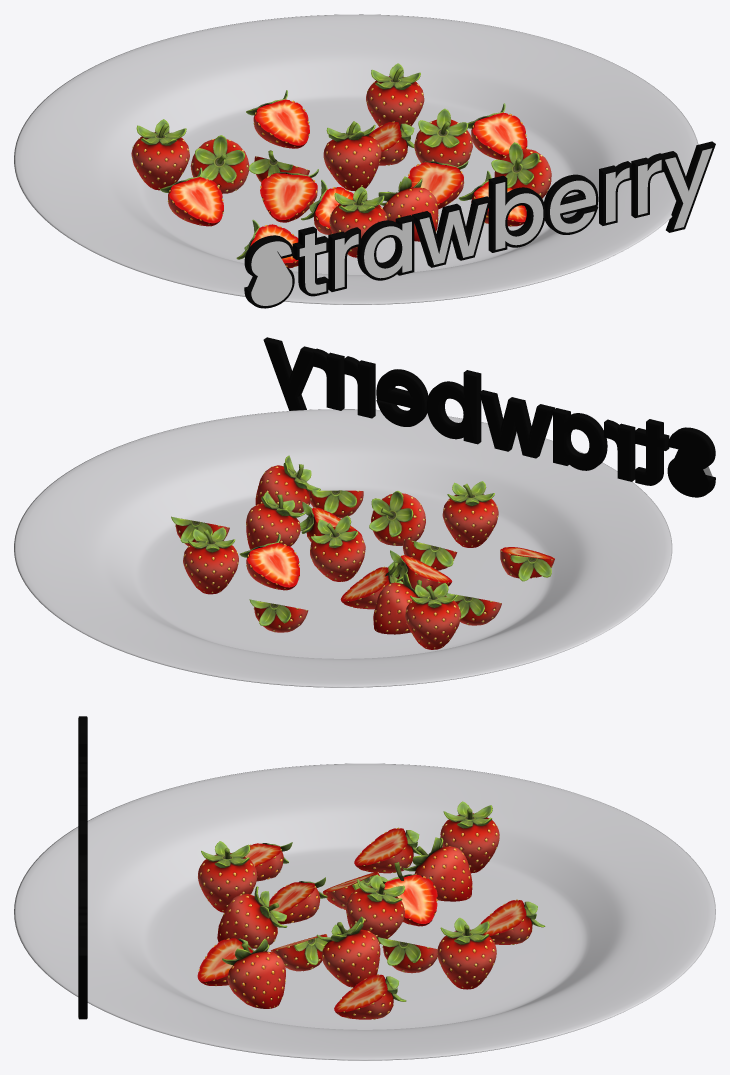
The model's file is Strawberry.fbx.
3 renders of one model, top to bottom at view 1: azimuth 30°, elevation 25°; view 2: azimuth 150°, elevation 25°; view 3: azimuth 270°, elevation 25°, orthographic. The views are drawn at different scales.
Parts seen in each view (by area): view 1: Circle, typeMesh2, Strawberry_Full_fruit_Strawberry_M_7, Strawberry_Full_fruit_Strawberry_M_0, Strawberry_Full_fruit_Strawberry_M_2, Strawberry_Full_fruit_Strawberry_M_1, Strawberry_Full_fruit_Strawberry_M_3, Strawberry_Half_fruit_Right_Strawberry_M_8, Strawberry_Half_fruit_Right_Strawberry_M_4, Strawberry_Half_fruit_Right_Strawberry_M_2, Strawberry_Full_fruit_Strawberry_M_6, Strawberry_Half_fruit_Right_Strawberry_M_3 (+8 smaller); view 2: Circle, typeMesh2, Strawberry_Full_fruit_Strawberry_M_4, Strawberry_Full_fruit_Strawberry_M_7, Strawberry_Full_fruit_Strawberry_M_2, Strawberry_Full_fruit_Strawberry_M_0, Strawberry_Full_fruit_Strawberry_M_5, Strawberry_Full_fruit_Strawberry_M_1, Strawberry_Half_fruit_Right_Strawberry_M_0, Strawberry_Full_fruit_Strawberry_M_6, Strawberry_Full_fruit_Strawberry_M_3, Strawberry_Half_fruit_Right_Strawberry_M_5 (+8 smaller); view 3: Circle, Strawberry_Full_fruit_Strawberry_M_2, Strawberry_Full_fruit_Strawberry_M_6, typeMesh2, Strawberry_Full_fruit_Strawberry_M_1, Strawberry_Full_fruit_Strawberry_M_4, Strawberry_Full_fruit_Strawberry_M_5, Strawberry_Full_fruit_Strawberry_M_7, Strawberry_Full_fruit_Strawberry_M_0, Strawberry_Full_fruit_Strawberry_M_3, Strawberry_Half_fruit_Right_Strawberry_M_3, Strawberry_Half_fruit_Right_Strawberry_M_4 (+8 smaller).
Part boxes in pixels (<box>): Circle: <box>14,14,698,304</box>; typeMesh2: <box>244,141,715,308</box>; Strawberry_Full_fruit_Strawberry_M_7: <box>131,119,189,190</box>; Strawberry_Full_fruit_Strawberry_M_0: <box>323,121,381,191</box>; Strawberry_Full_fruit_Strawberry_M_2: <box>366,63,424,126</box>; Strawberry_Full_fruit_Strawberry_M_1: <box>414,108,472,169</box>; Strawberry_Full_fruit_Strawberry_M_3: <box>190,135,249,193</box>; Strawberry_Half_fruit_Right_Strawberry_M_8: <box>246,90,309,148</box>; Strawberry_Half_fruit_Right_Strawberry_M_4: <box>160,167,223,226</box>; Strawberry_Half_fruit_Right_Strawberry_M_2: <box>260,169,318,222</box>; Strawberry_Full_fruit_Strawberry_M_6: <box>491,142,551,198</box>; Strawberry_Half_fruit_Right_Strawberry_M_3: <box>468,103,527,159</box>; Circle: <box>14,409,672,687</box>; typeMesh2: <box>263,337,715,497</box>; Strawberry_Full_fruit_Strawberry_M_4: <box>442,481,498,547</box>; Strawberry_Full_fruit_Strawberry_M_7: <box>405,583,461,649</box>; Strawberry_Full_fruit_Strawberry_M_2: <box>183,527,238,594</box>; Strawberry_Full_fruit_Strawberry_M_0: <box>310,515,365,581</box>; Strawberry_Full_fruit_Strawberry_M_5: <box>369,491,425,545</box>; Strawberry_Full_fruit_Strawberry_M_1: <box>246,492,305,549</box>; Strawberry_Half_fruit_Right_Strawberry_M_0: <box>239,534,299,590</box>; Strawberry_Full_fruit_Strawberry_M_6: <box>255,455,320,512</box>; Strawberry_Full_fruit_Strawberry_M_3: <box>373,573,421,634</box>; Strawberry_Half_fruit_Right_Strawberry_M_5: <box>500,547,554,581</box>; Circle: <box>14,763,715,1060</box>; Strawberry_Full_fruit_Strawberry_M_2: <box>437,917,496,989</box>; Strawberry_Full_fruit_Strawberry_M_6: <box>222,938,285,1008</box>; typeMesh2: <box>78,716,87,1019</box>; Strawberry_Full_fruit_Strawberry_M_1: <box>316,916,380,987</box>; Strawberry_Full_fruit_Strawberry_M_4: <box>198,841,257,912</box>; Strawberry_Full_fruit_Strawberry_M_5: <box>217,886,287,948</box>; Strawberry_Full_fruit_Strawberry_M_7: <box>440,801,499,873</box>; Strawberry_Full_fruit_Strawberry_M_0: <box>346,874,404,944</box>; Strawberry_Full_fruit_Strawberry_M_3: <box>402,837,472,901</box>; Strawberry_Half_fruit_Right_Strawberry_M_3: <box>334,974,406,1019</box>; Strawberry_Half_fruit_Right_Strawberry_M_4: <box>354,827,421,873</box>.
Bounding box in the file's own units: 313 × 60.39 × 313.
Materials: 4 (1 with a texture image).
